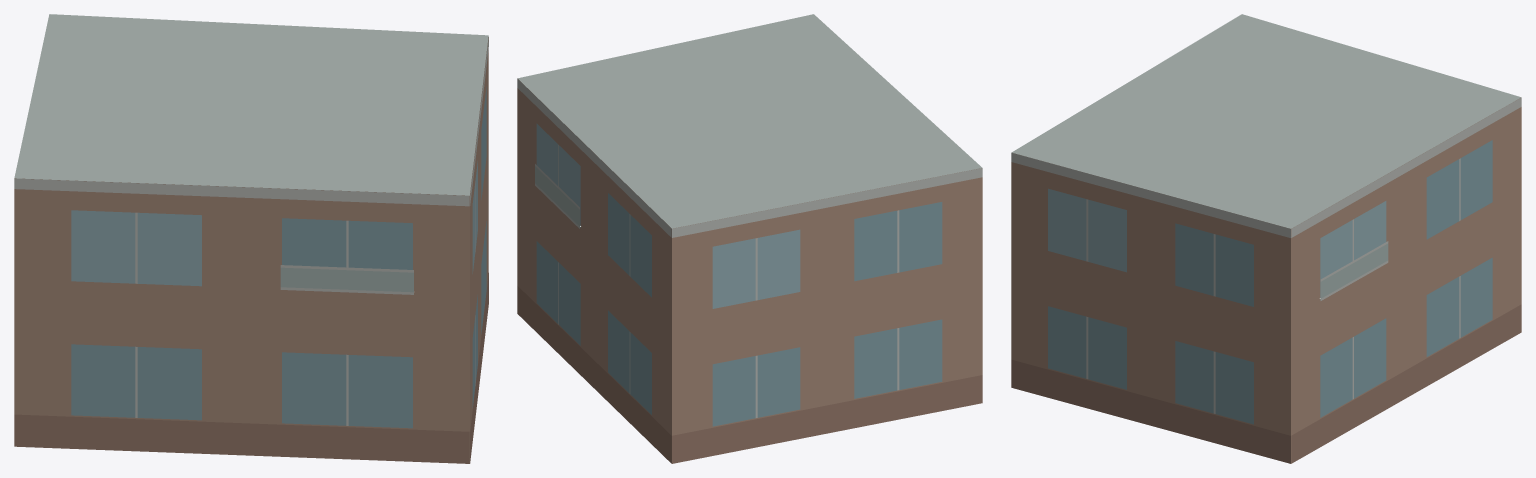
File: survey-upis-33012810.glb
3 renders of one model, left to right at view 1: azimuth 30°, elevation 25°; view 2: azimuth 150°, elevation 25°; view 3: azimuth 270°, elevation 25°, orthographic. The views are drawn at different scales.
Parts seen in each view (by area): view 1: survey-upis-33012810.tmp; view 2: survey-upis-33012810.tmp; view 3: survey-upis-33012810.tmp.
Part boxes in pixels (x1,y1,x2,y2): survey-upis-33012810.tmp: (14, 14, 488, 463); survey-upis-33012810.tmp: (517, 14, 982, 463); survey-upis-33012810.tmp: (1011, 14, 1521, 463).
Size of the model in its own units: 11.97 by 6.1 by 12.01.
